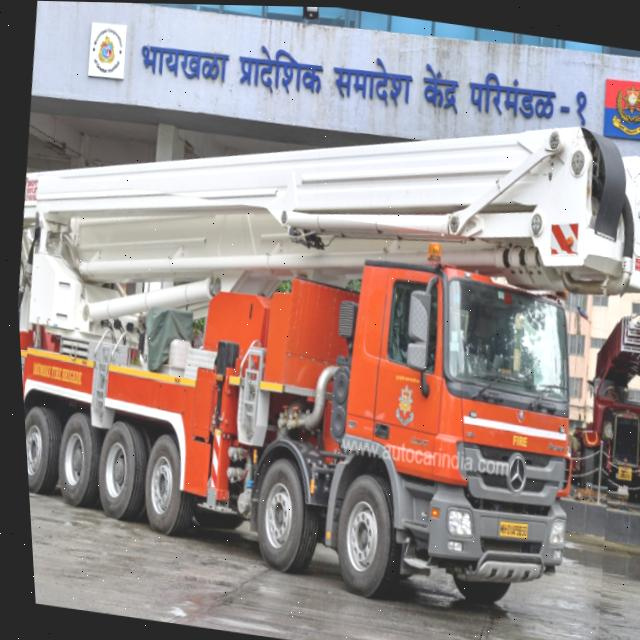Fire Truck: (8, 175, 636, 636)
